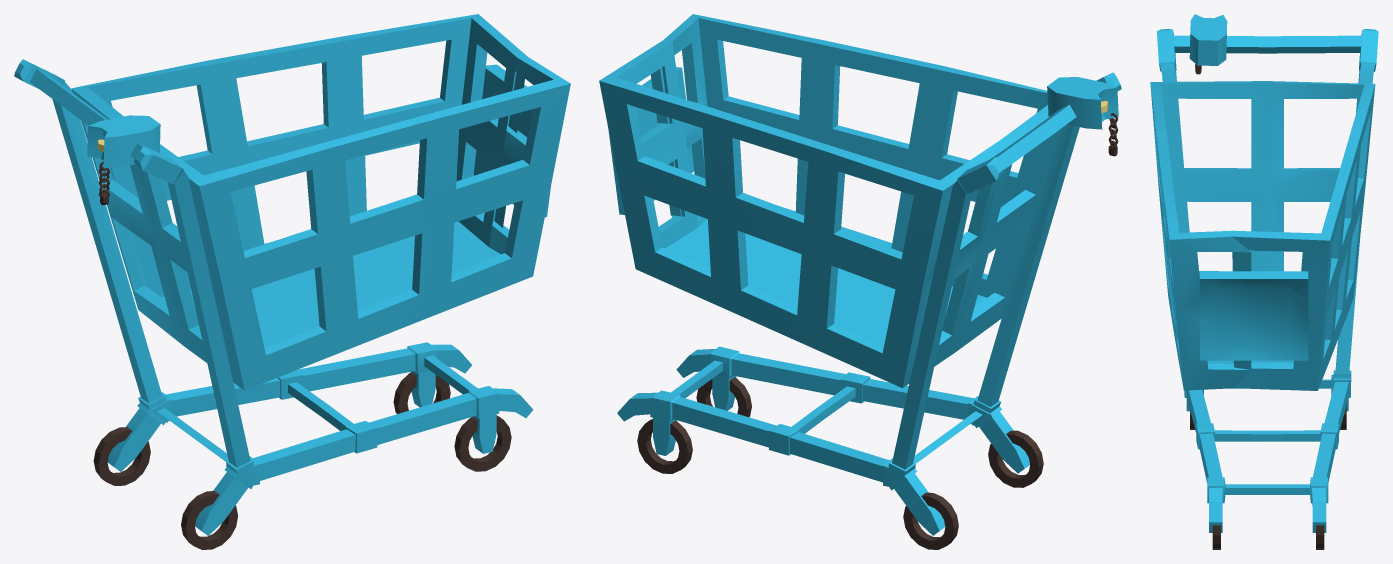
Rendered from cart5.fbx.
3 renders of one model, left to right at view 1: azimuth 30°, elevation 25°; view 2: azimuth 150°, elevation 25°; view 3: azimuth 270°, elevation 25°, orthographic. The views are drawn at different scales.
Visible parts, largest first — view 1: cart, wheel1, wheel4, wheel3, wheel2; view 2: cart, wheel3, wheel4, wheel2, wheel1; view 3: cart.
Boxes of the visible parts, left/top/right/bottom form: cart: left=14, top=14, right=570, bottom=535; wheel1: left=454, top=415, right=511, bottom=471; wheel4: left=93, top=427, right=150, bottom=485; wheel3: left=181, top=491, right=237, bottom=549; wheel2: left=393, top=372, right=450, bottom=413; cart: left=599, top=14, right=1121, bottom=535; wheel3: left=988, top=430, right=1043, bottom=487; wheel4: left=903, top=492, right=958, bottom=549; wheel2: left=637, top=419, right=692, bottom=473; wheel1: left=696, top=377, right=751, bottom=417; cart: left=1150, top=14, right=1378, bottom=532.
Size of the model in its own units: 120 by 109 by 60.65.
